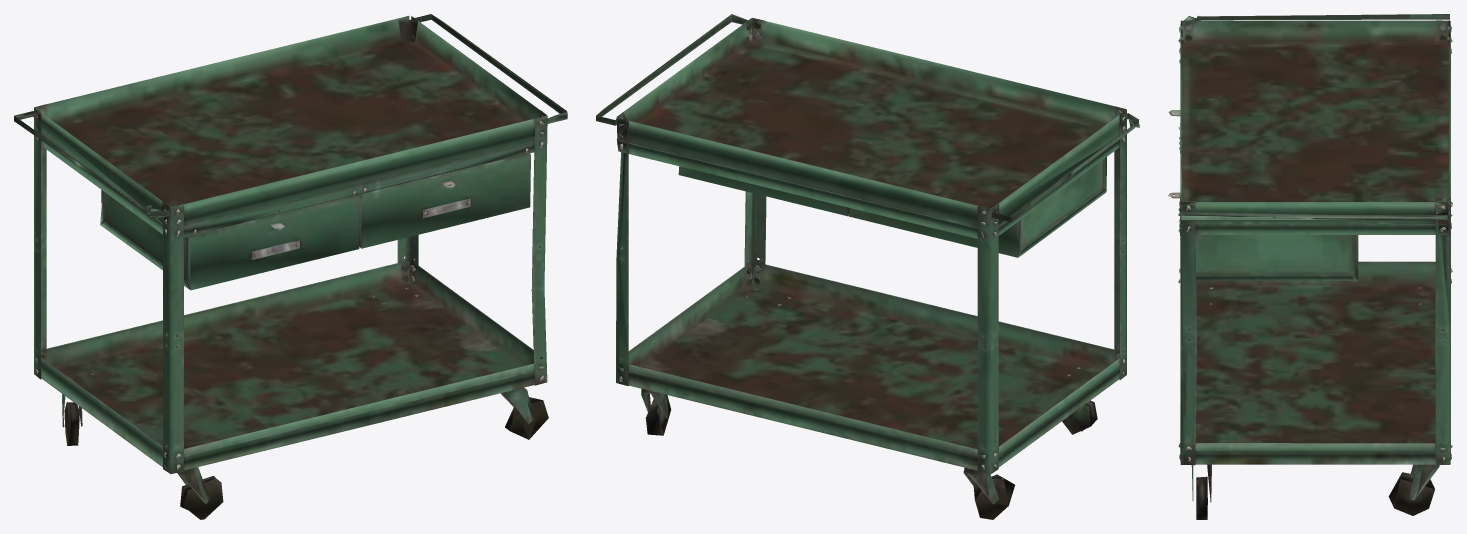
File: toolCart_lo.glb
The picture shows the model from 3 angles, left to right: view 1: azimuth 30°, elevation 25°; view 2: azimuth 150°, elevation 25°; view 3: azimuth 270°, elevation 25°; orthographic projection.
Parts seen in each view (by area): view 1: tool_cart; view 2: tool_cart; view 3: tool_cart.
Part boxes in pixels (box(x1,y1,x2,y2)): tool_cart: box(14, 14, 567, 519); tool_cart: box(596, 14, 1139, 519); tool_cart: box(1168, 14, 1452, 519).
Size of the model in its own units: 1.26 by 0.9457 by 0.7521.
Materials: 1 (1 with a texture image).
